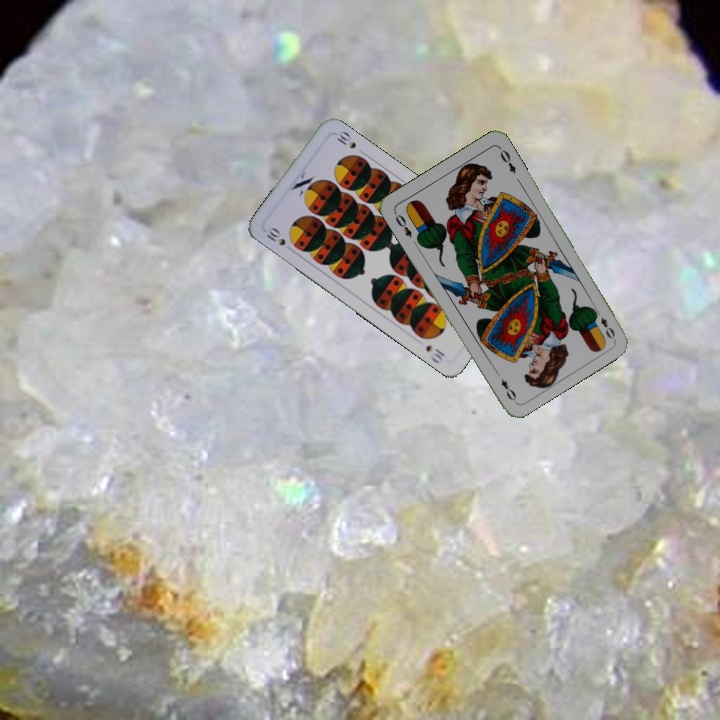EO: (590, 305, 618, 342), (390, 208, 414, 240)
S10: (262, 223, 296, 253)
